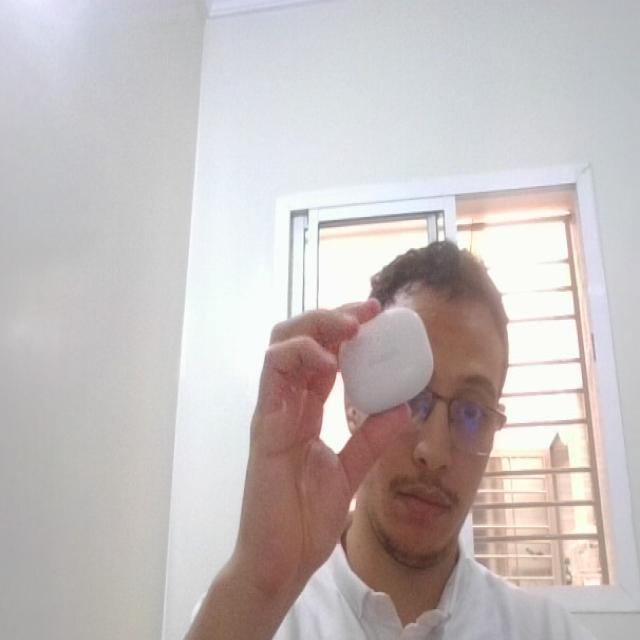airpods: (332, 308, 442, 418)
